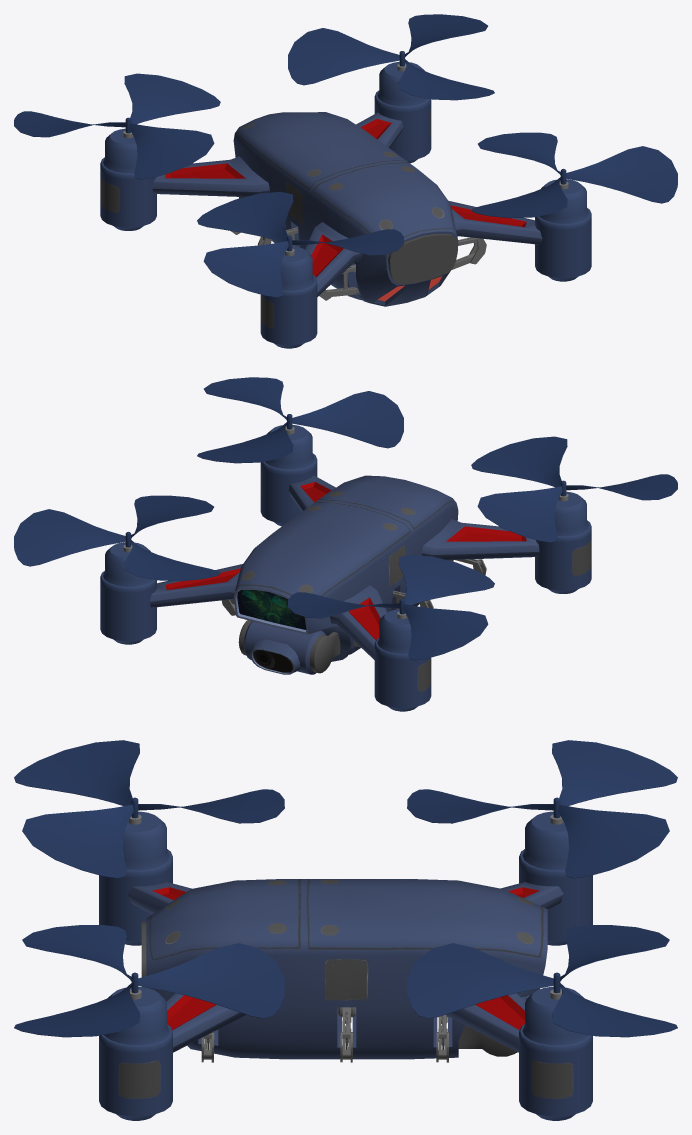
The model's file is DRONE_Vint.glb.
The picture shows the model from 3 angles, top to bottom: view 1: azimuth 30°, elevation 25°; view 2: azimuth 150°, elevation 25°; view 3: azimuth 270°, elevation 25°; orthographic projection. The views are drawn at different scales.
Parts seen in each view (by area): view 1: drone_vint; view 2: drone_vint; view 3: drone_vint.
Boxes of the visible parts, x1,y1,x2,y2 form: drone_vint: (14,14,677,348); drone_vint: (14,377,677,711); drone_vint: (14,740,677,1120).
Bounding box in the file's own units: 1.56 × 0.3983 × 1.49.
Materials: 2 (2 with a texture image).
